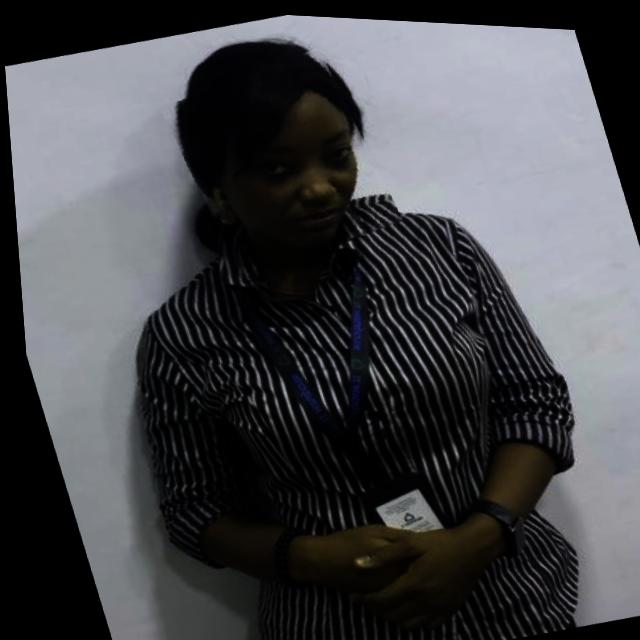sad: (156, 39, 402, 284)
